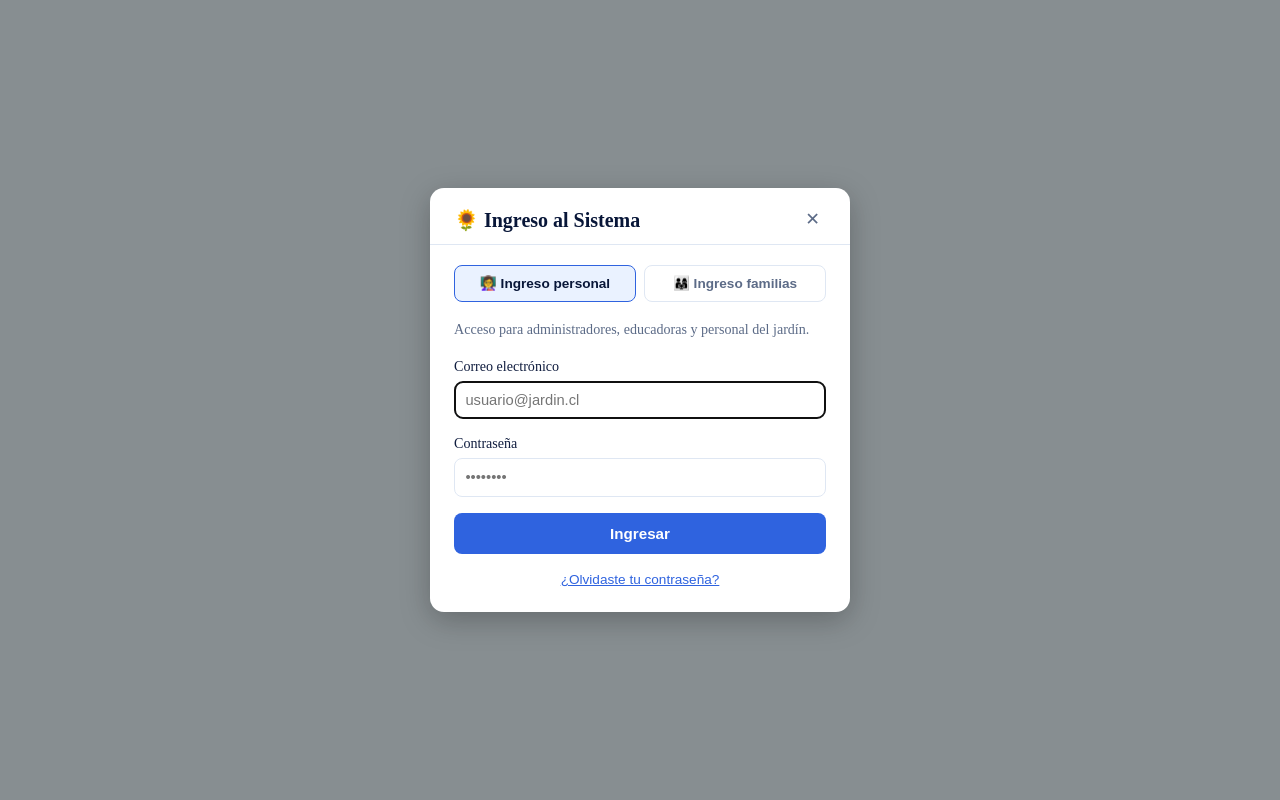
Test: LoginModal › muestra el link de registro solo en la pestaña de familias
Expected: the text "regístrate" is not shown
Click the button "👨‍👩‍👧 Ingreso familias".
click(735, 283)  # box [644,265,826,302]
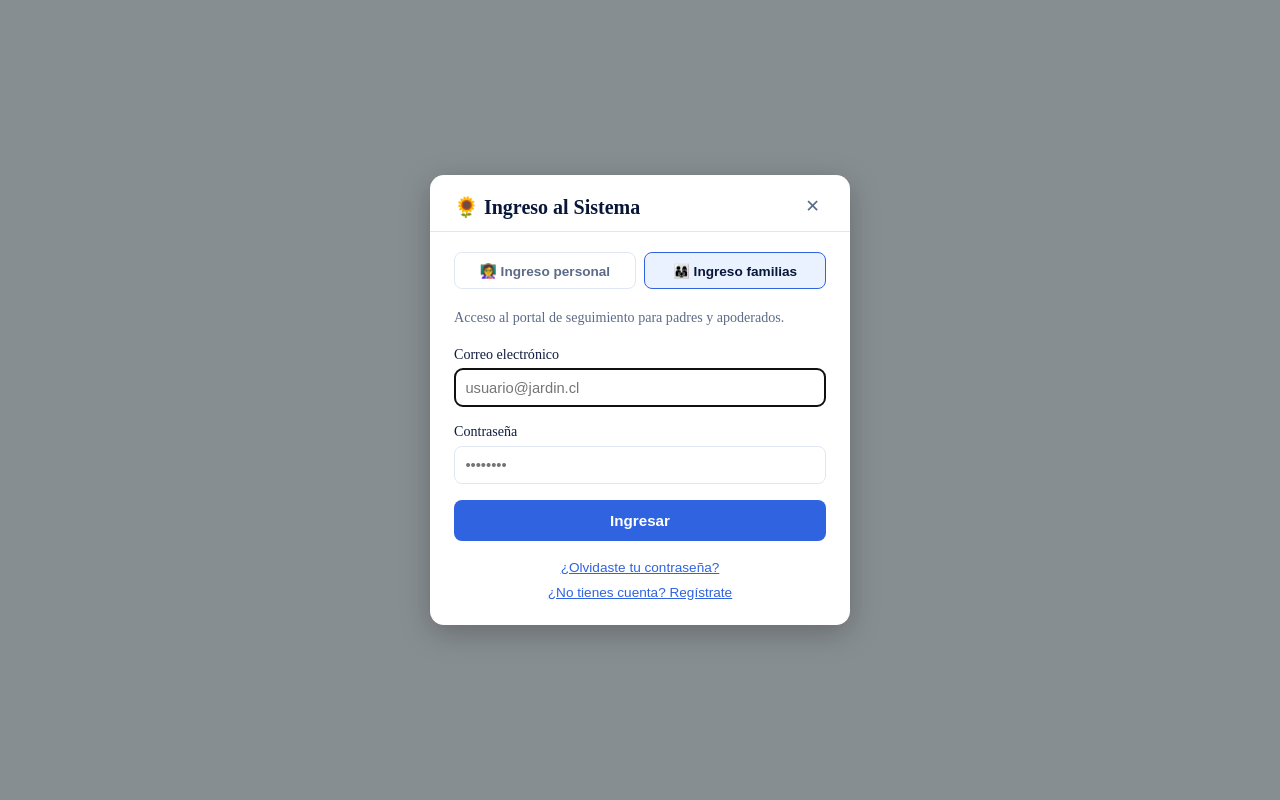
Result: the button "¿No tienes cuenta? Regístrate" is shown at [542,584,738,601]
